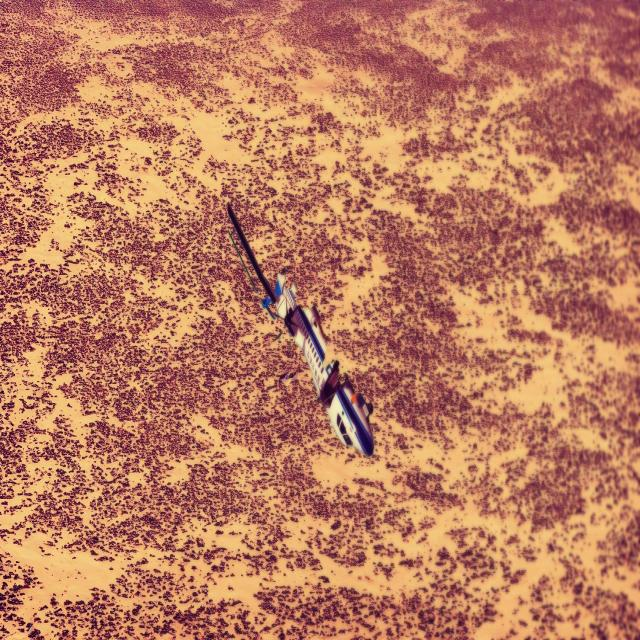airplane: (226, 202, 374, 458)
